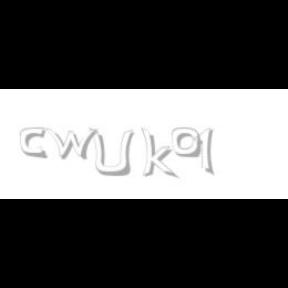1: (193, 128, 215, 176)
U: (88, 128, 134, 178)
c: (20, 128, 48, 160)
k: (141, 128, 179, 180)
o: (172, 128, 200, 158)
w: (44, 128, 102, 160)
